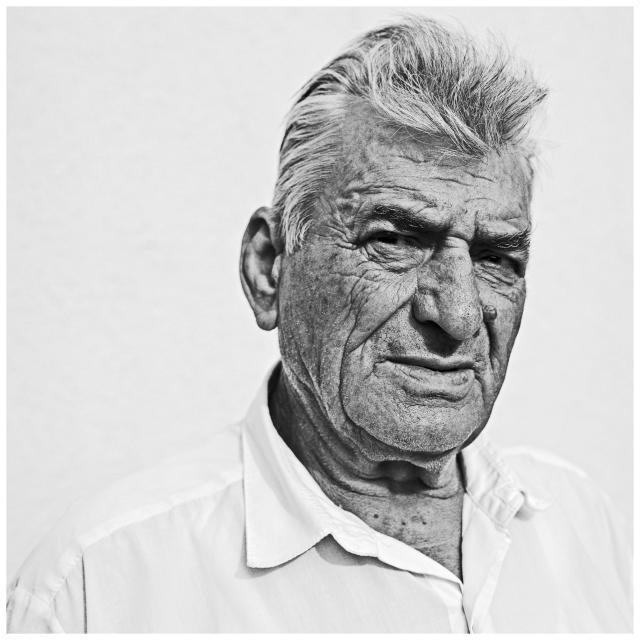Wrinkles: (466, 197, 515, 214), (414, 176, 473, 186), (351, 270, 368, 304), (465, 171, 494, 182), (374, 185, 421, 191), (383, 156, 428, 162), (345, 299, 355, 320), (512, 217, 522, 219), (504, 219, 512, 221)
